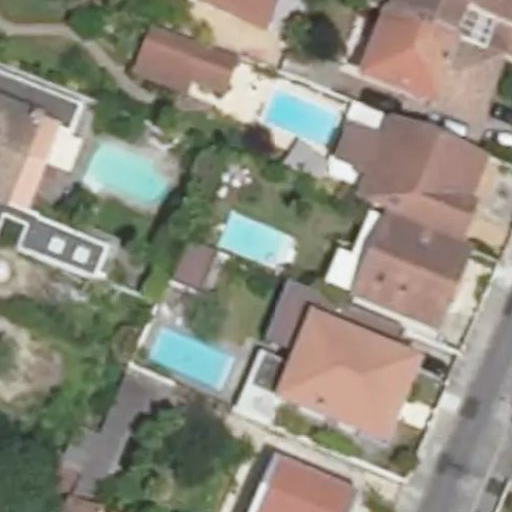pool: (149, 331, 229, 389), (87, 146, 168, 199), (264, 92, 334, 144), (221, 221, 284, 262)
